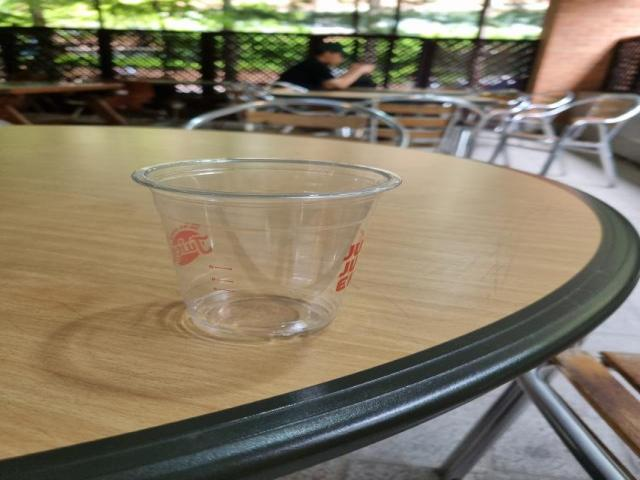cup: (124, 151, 410, 344)
